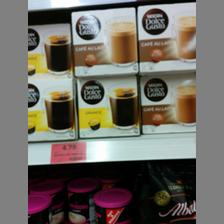Kaffee: (71, 5, 138, 77), (72, 74, 140, 134), (138, 1, 194, 72), (140, 72, 194, 136), (28, 77, 76, 141), (28, 21, 72, 77)
